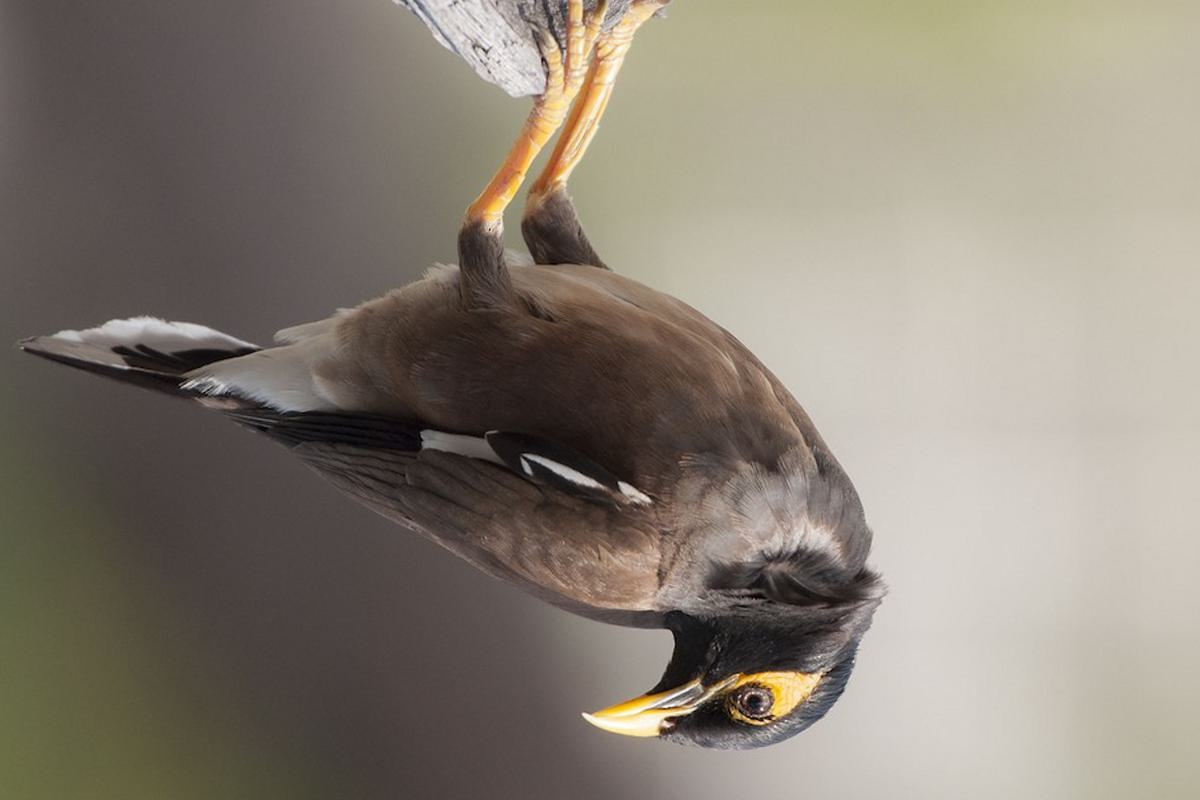myna: (206, 105, 900, 768)
